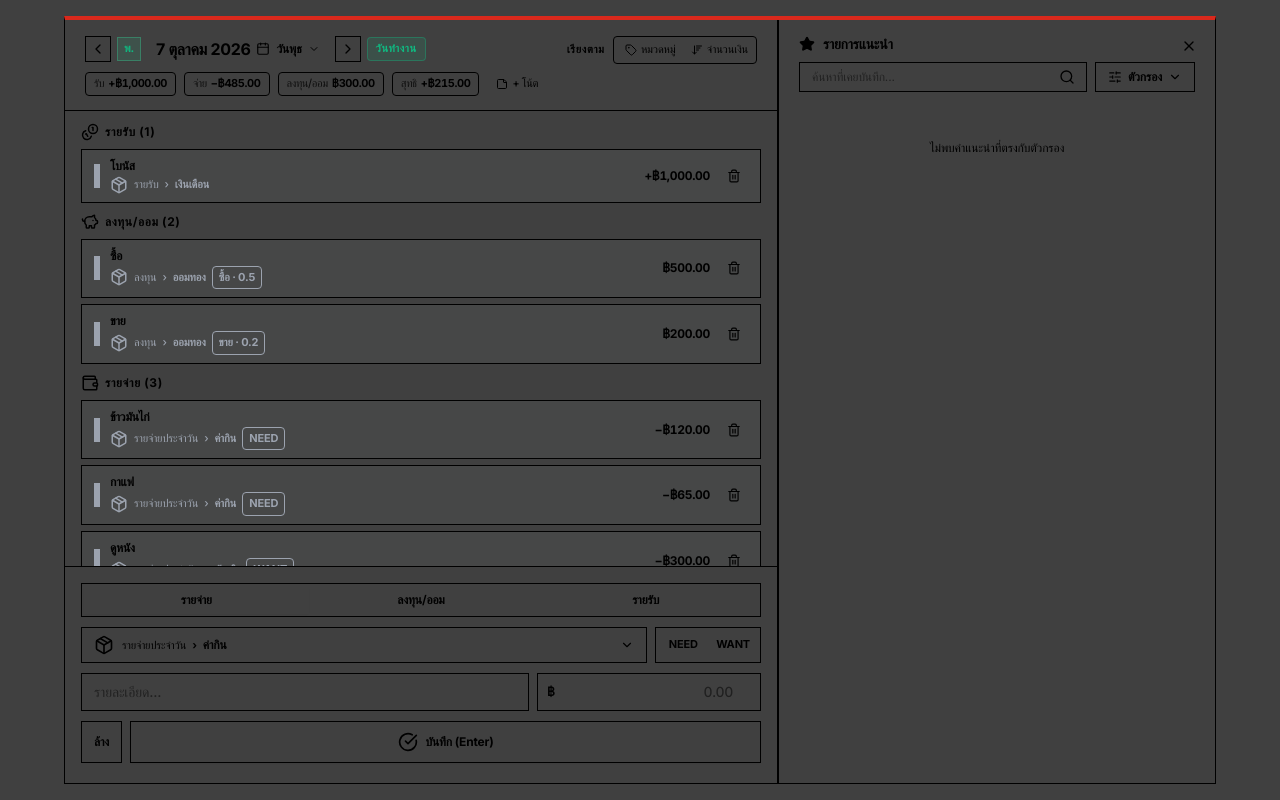
Scenario: DayDetailModal — day note › starts every day with its own note state (editor does not carry over when stepping days)
Click the button "+ โน้ต". click: (517, 84)
box: [488,72,547,96]
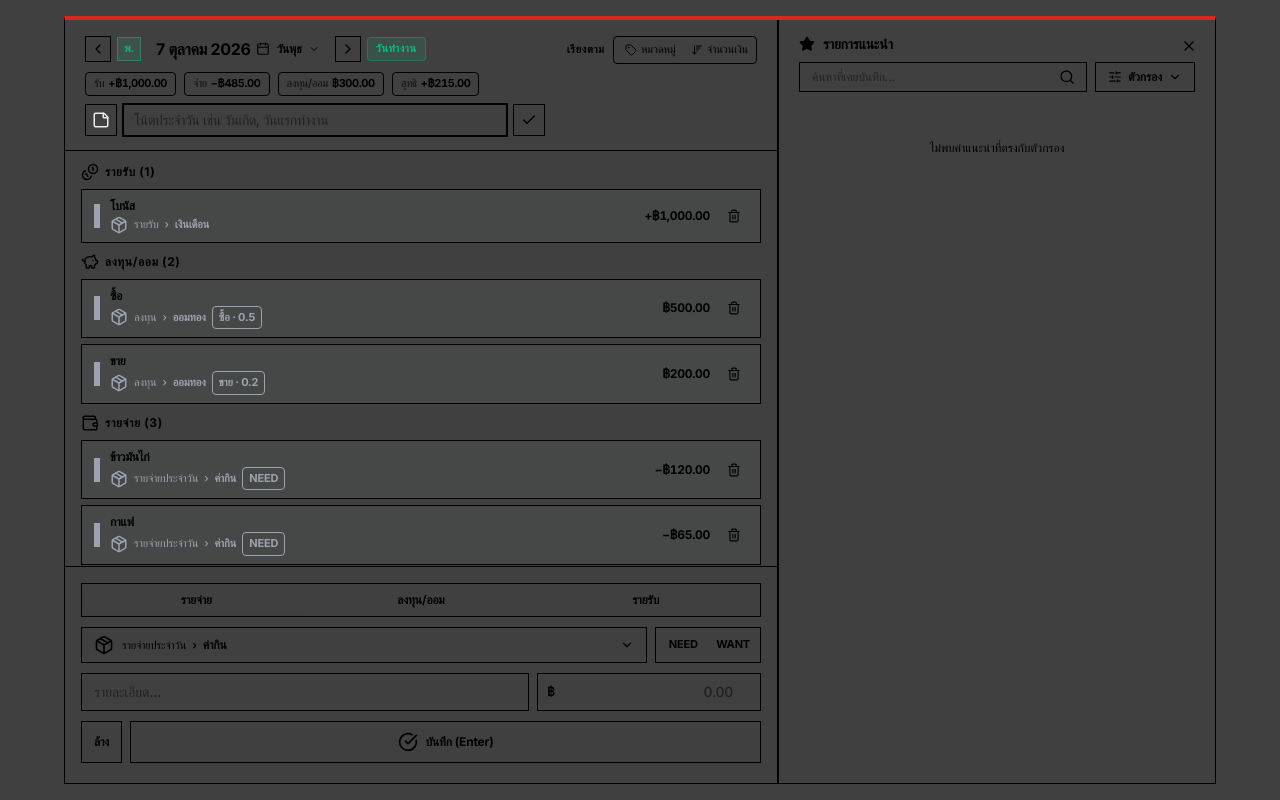
Check: the field named "โน้ตประจำวัน" is shown, box [123,104,507,136]
Click the button named "วันถัดไป (+1 วัน)". click: (348, 49)
box: [335,36,361,62]
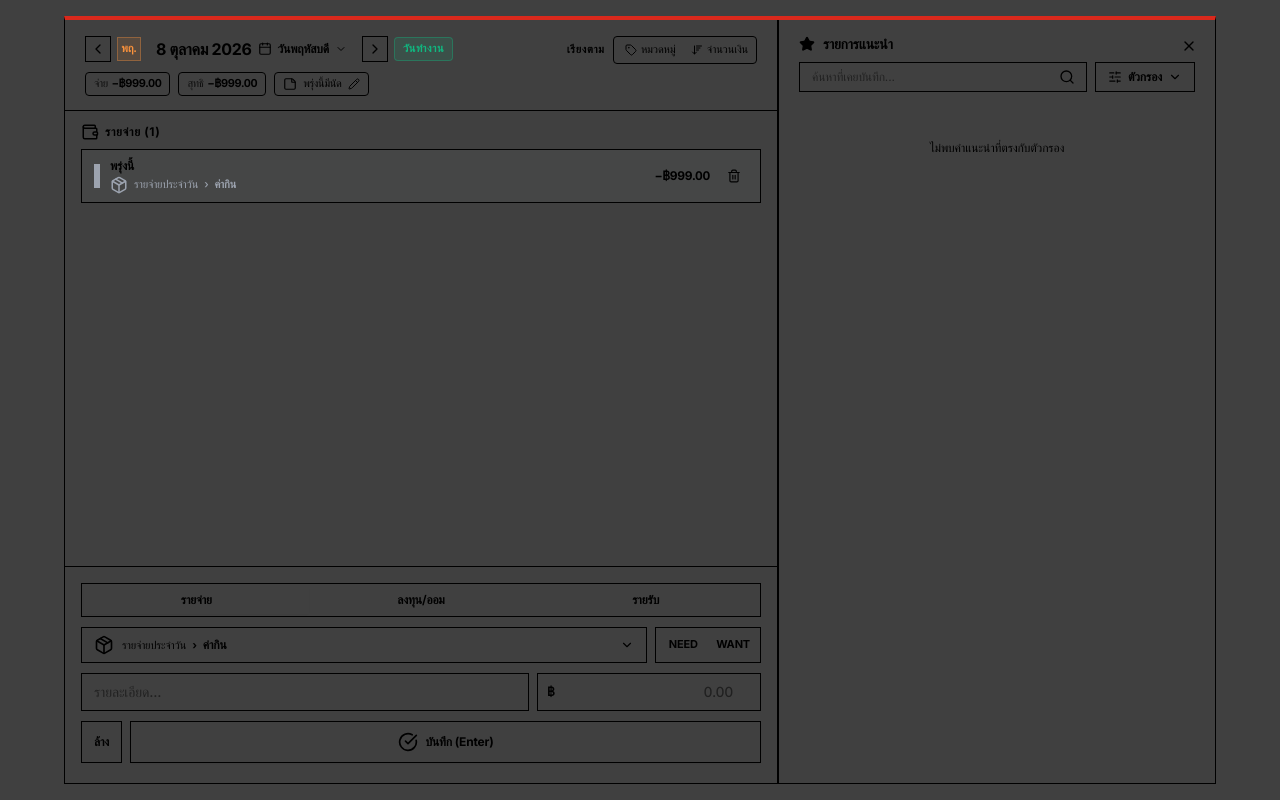
Check: the field named "โน้ตประจำวัน" is gone
Check: the button with aria-label "แก้ไขโน้ต: พรุ่งนี้มีนัด" is shown, box [274,72,368,96]
